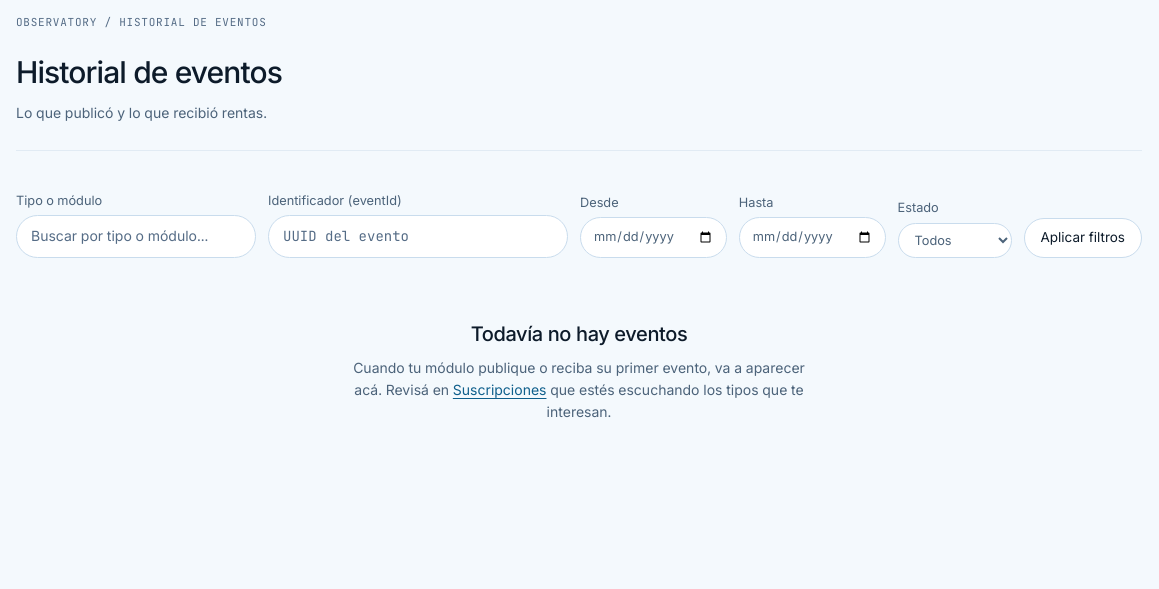
Historial de eventos › un eventId inexistente se informa como "sin coincidencias", no como error
Expected: the heading "Todavía no hay eventos" is shown, 471,322 -> 687,346
Type "00000000-0000-4000-8000-000000000000" into the field labelled "Identificador (eventId)".
click(418, 236); type("00000000-0000-4000-8000-000000000000")  # box 268,215 -> 568,258
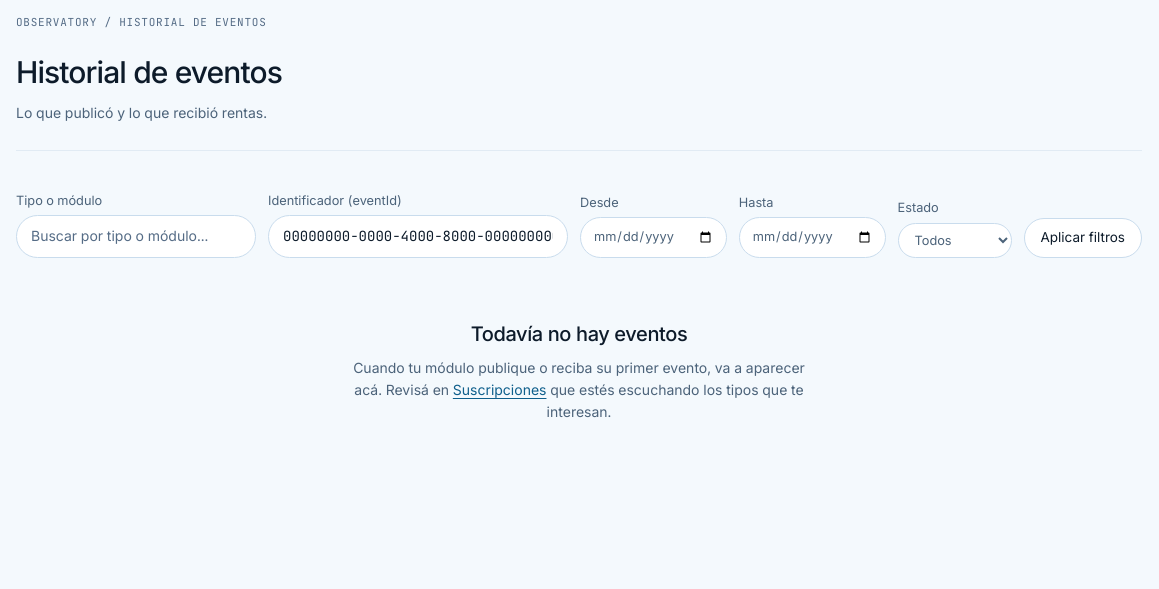
Click the button "Aplicar filtros".
click(1083, 238)  # box 1024,218 -> 1142,258
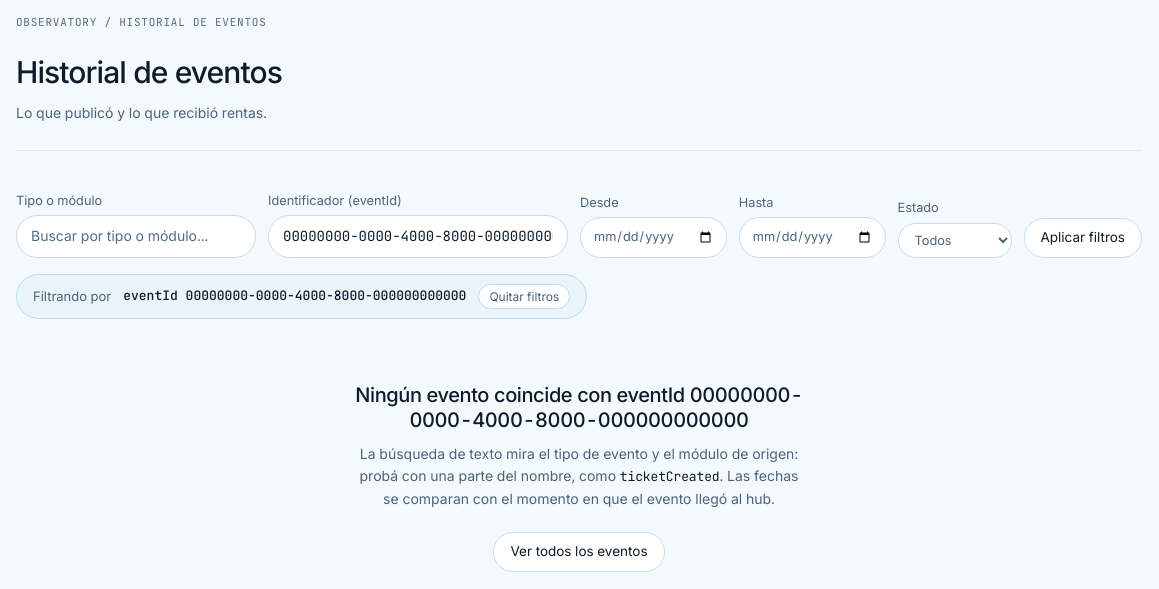
Result: the heading "Ningún evento coincide con eventId" is shown at 352,383 -> 806,433
